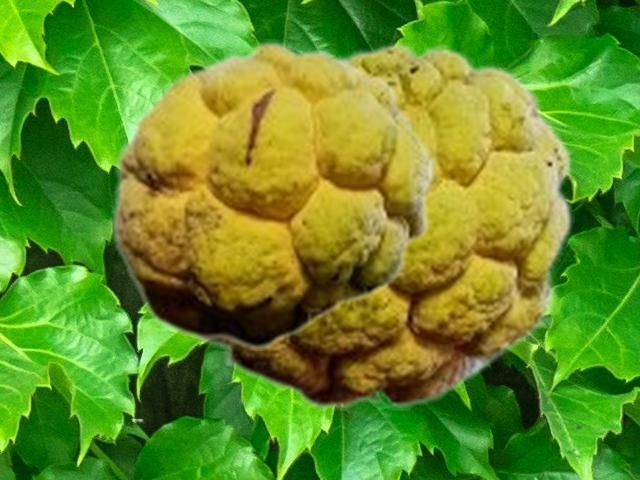atis: (194, 42, 573, 409), (109, 39, 435, 349)
